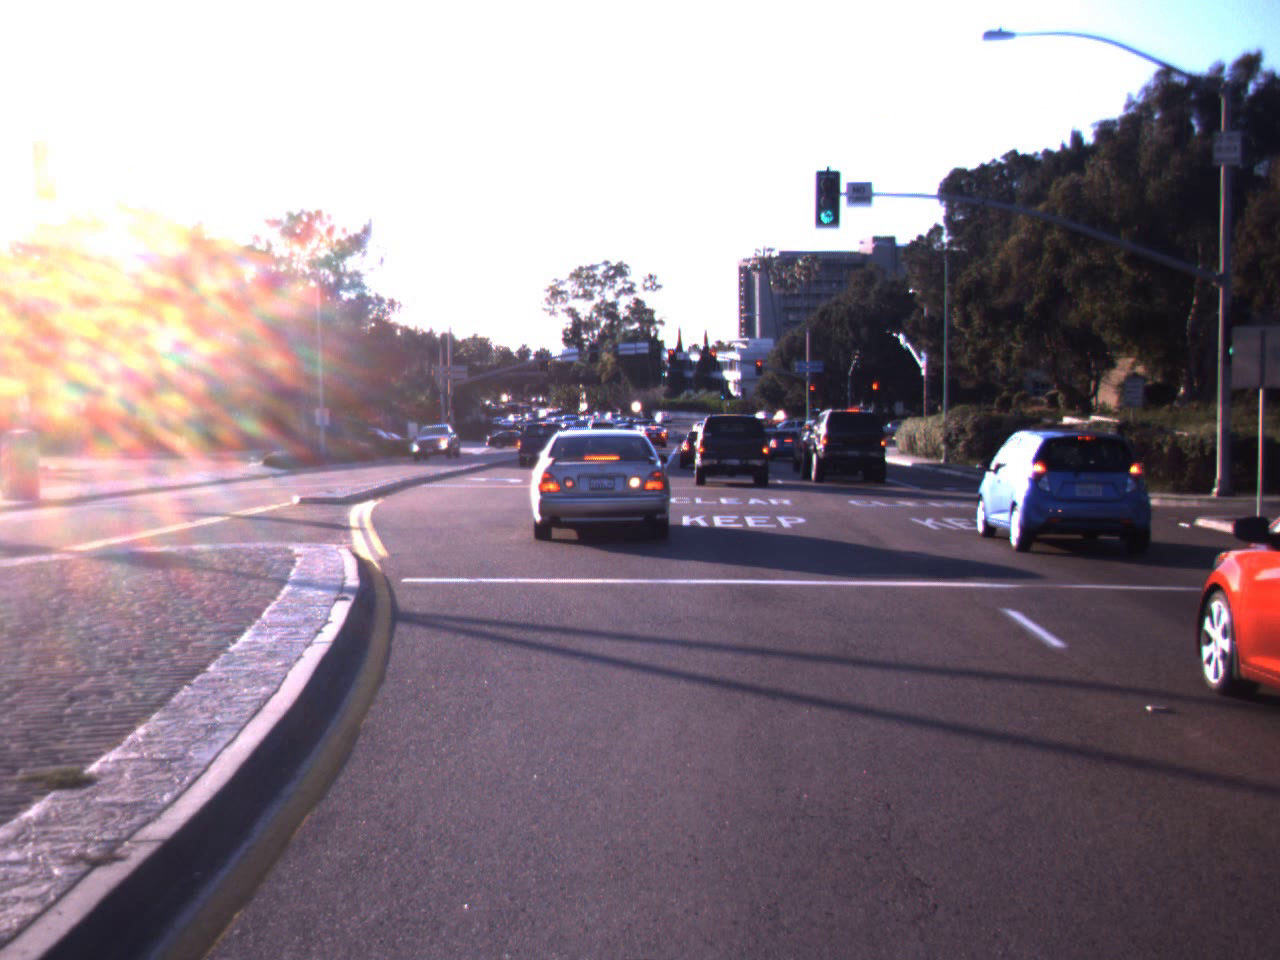go: (815, 178, 842, 228)
